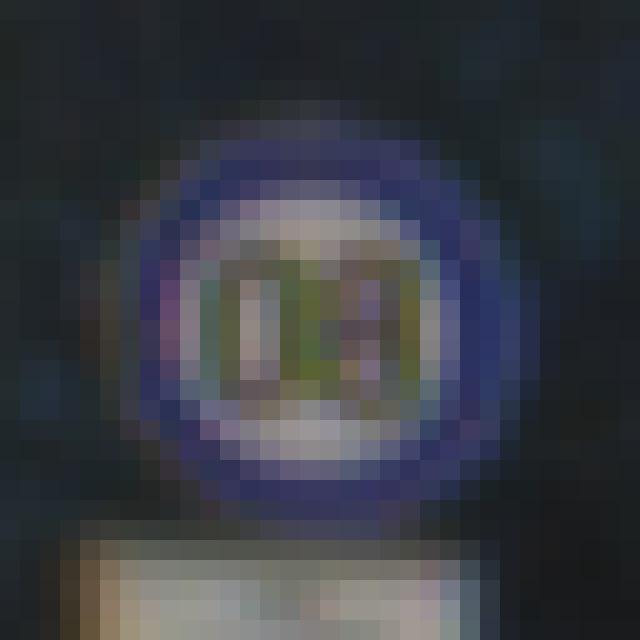SPEED-LIMIT-80: (86, 119, 534, 519)
